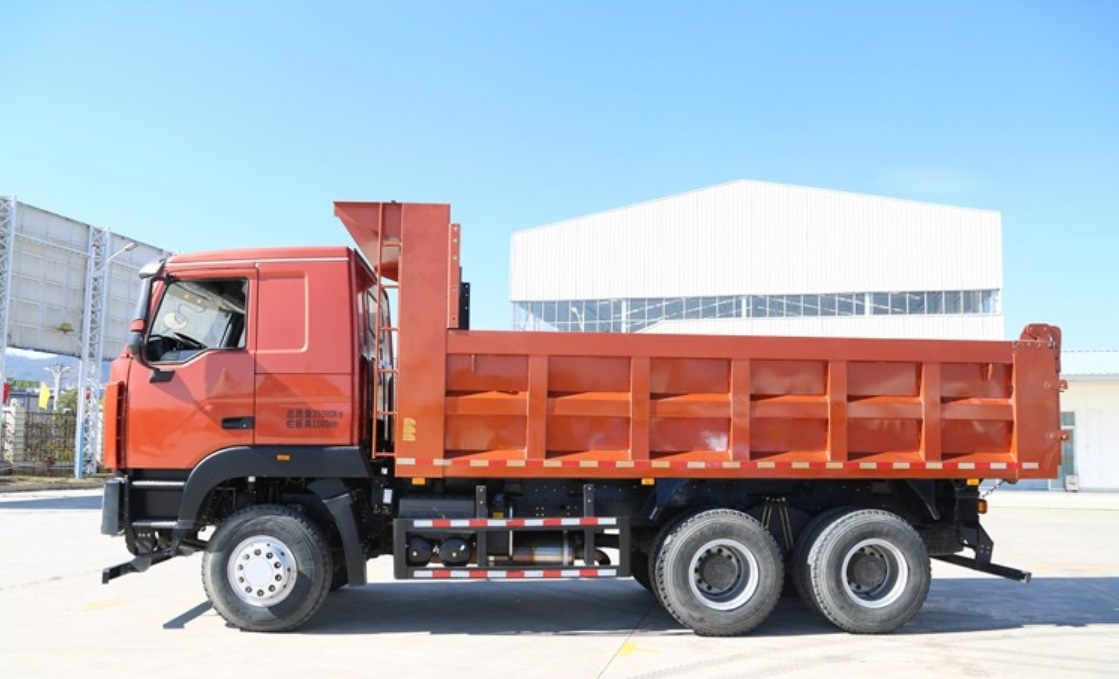heavy truck: (92, 188, 1067, 657)
